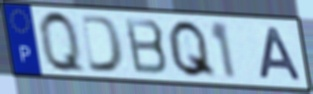1: (209, 20, 238, 81)
A: (258, 25, 305, 83)
B: (122, 16, 170, 76)
D: (78, 13, 126, 74)
Q: (36, 8, 89, 77), (166, 19, 220, 81)
